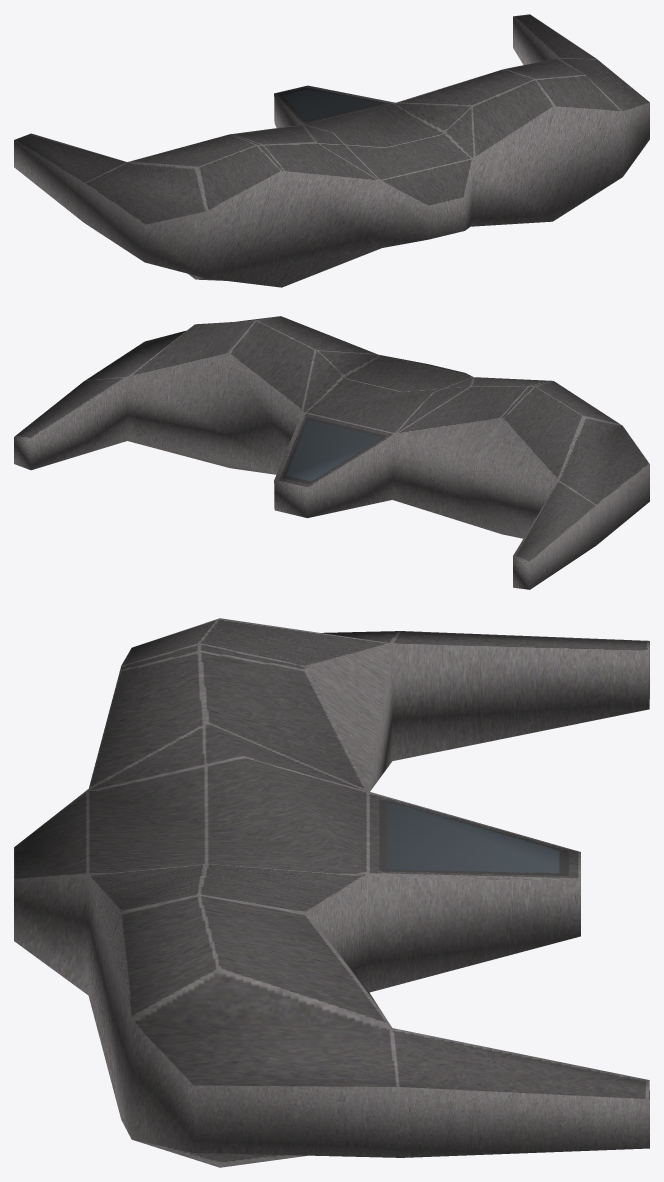
File: starShip.fbx
3 views of the same model, one above another, from view 1: azimuth 30°, elevation 25°; view 2: azimuth 150°, elevation 25°; view 3: azimuth 270°, elevation 25° (orthographic). The views are drawn at different scales.
Visible parts, largest first — view 1: Cube; view 2: Cube; view 3: Cube.
Boxes of the visible parts, x1,y1,x2,y2 form: Cube: (14, 14, 649, 287); Cube: (14, 316, 649, 589); Cube: (14, 618, 649, 1167).
Size of the model in its own units: 920 by 236 by 540.
1 material, 1 textured.
